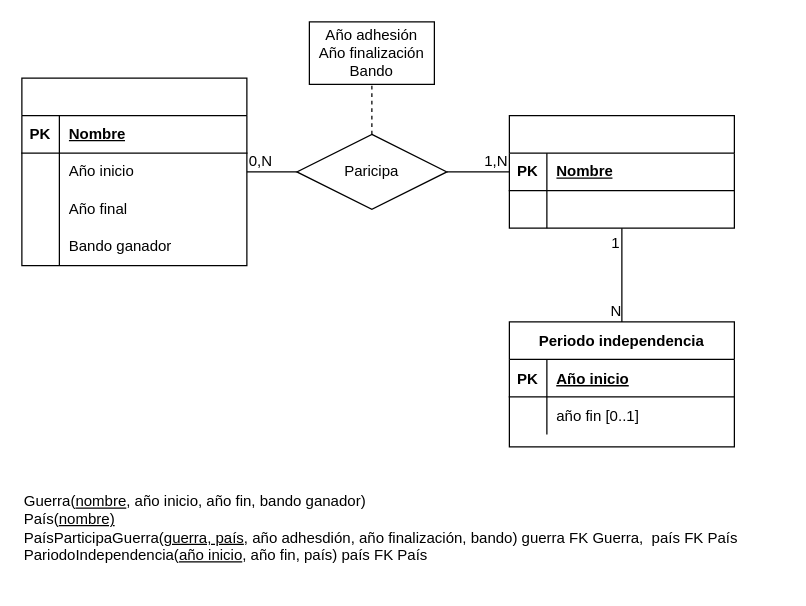
Image size: 806x606. Some labels were removed from this diagram. Each missing label, with the box of its shape:
Guerra: (21, 77, 247, 266)
País: (508, 114, 734, 228)
